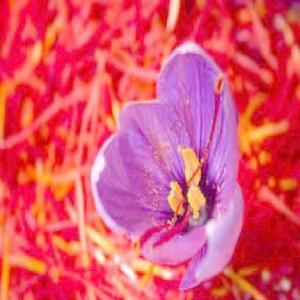Saffron: (95, 41, 244, 289)
